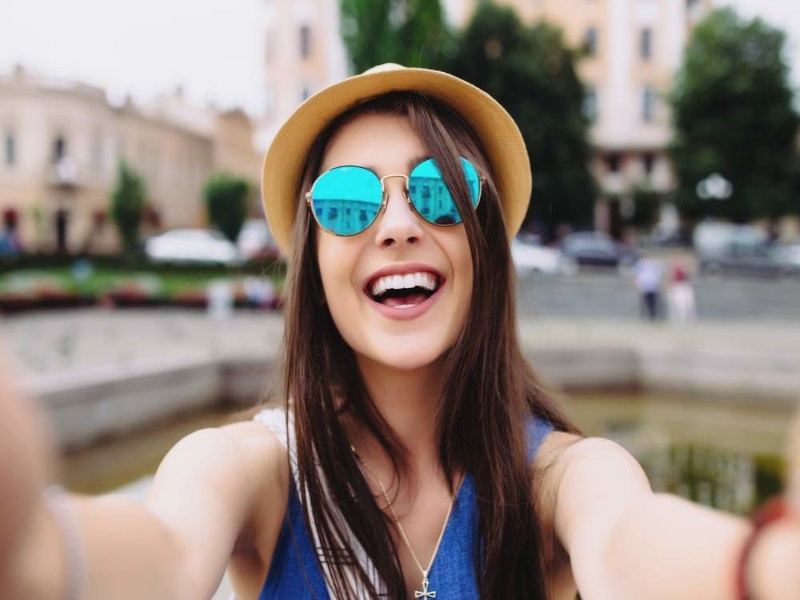smile: (317, 107, 480, 363)
